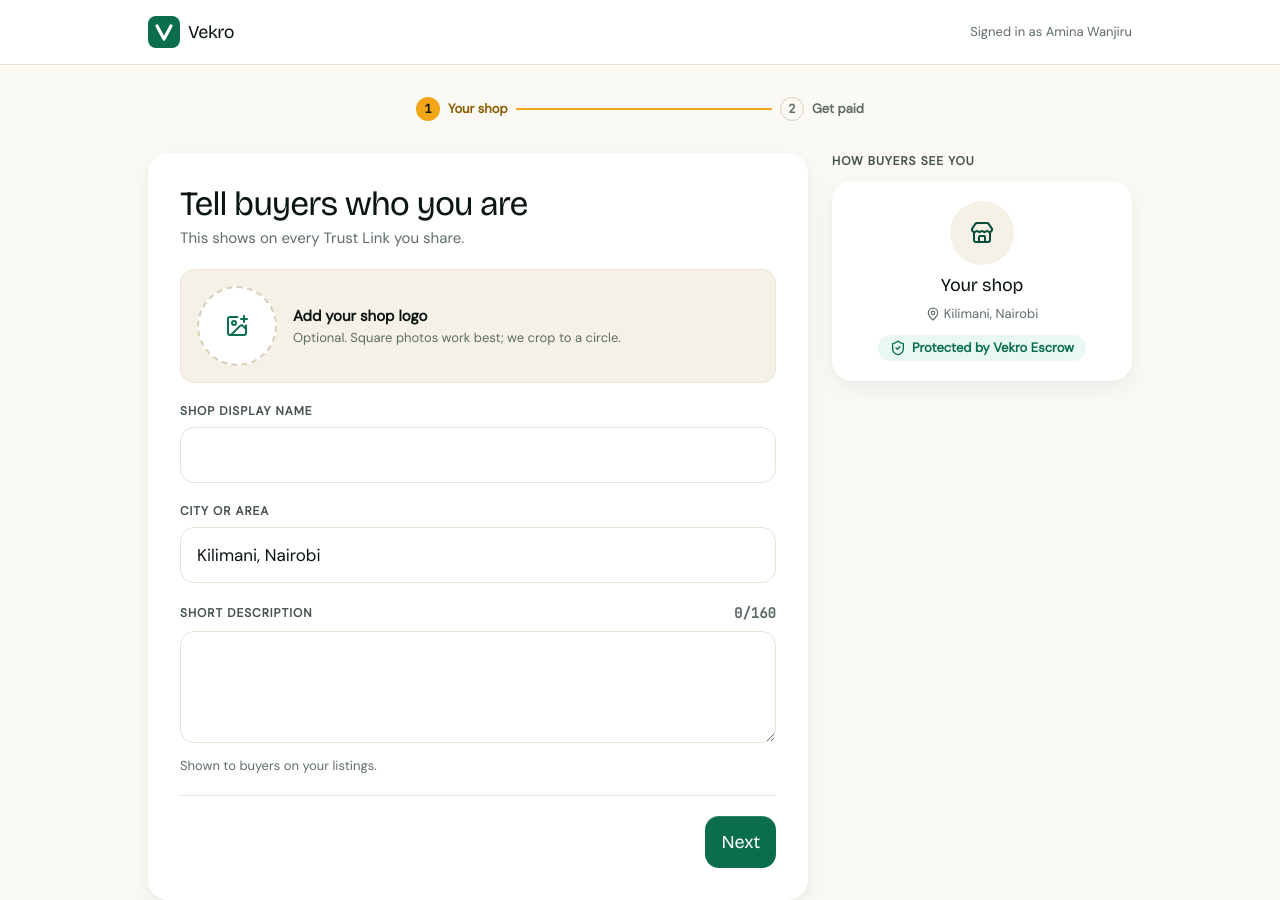
Test: S3 payout setup › needs a shop name before step 2
The image size is (1280, 900).
Check: the text "Signed in as Amina Wanjiru" is shown, box [970,23,1132,41]
Click the button "Next". click: x=741, y=842
box: [706,816,776,868]
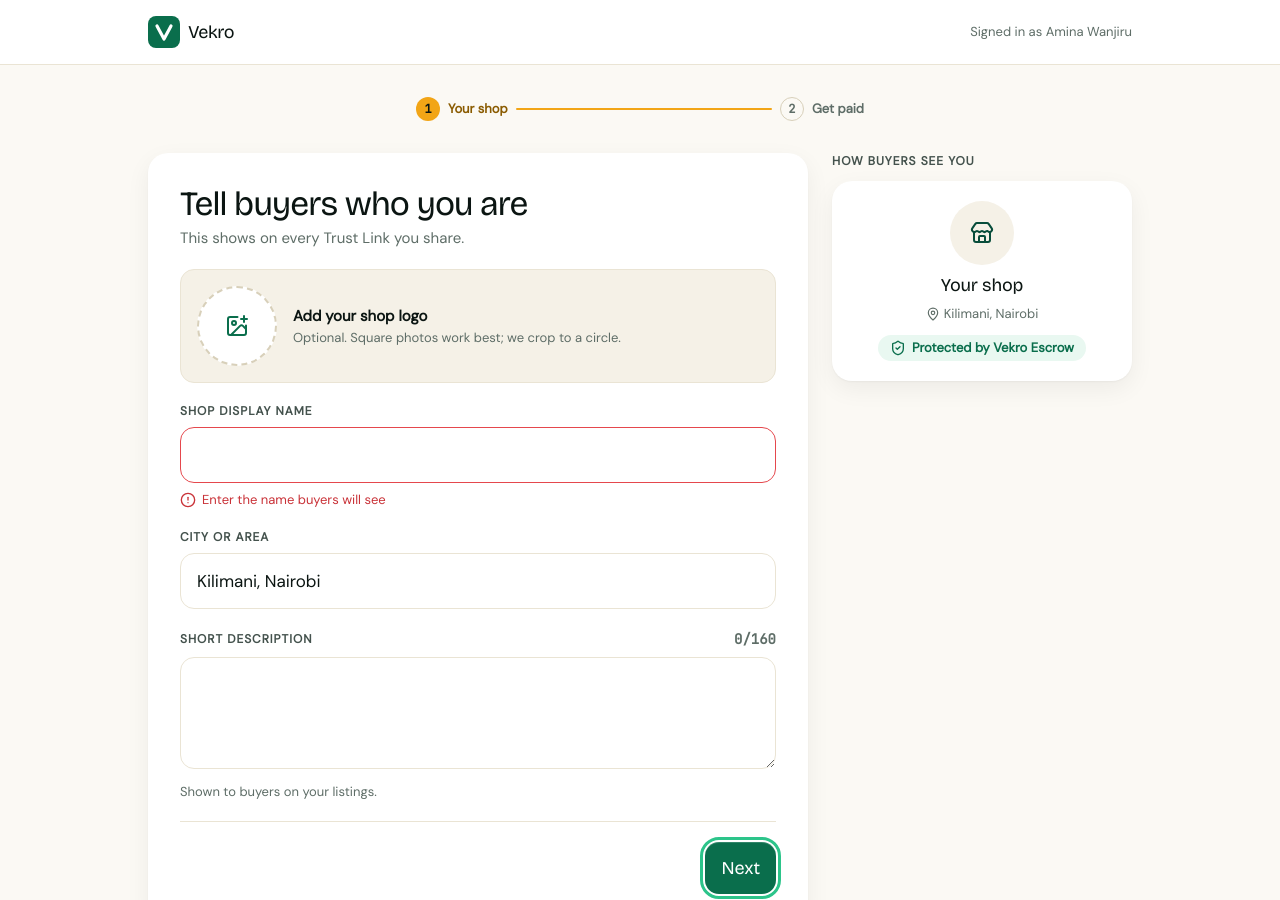
Check: the text "Enter the name buyers will see" is shown, box [180,491,386,508]
